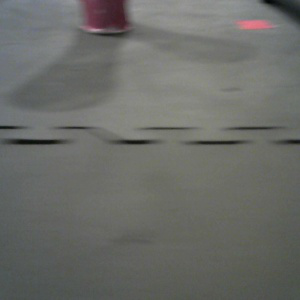Middle: (79, 1, 132, 33)
